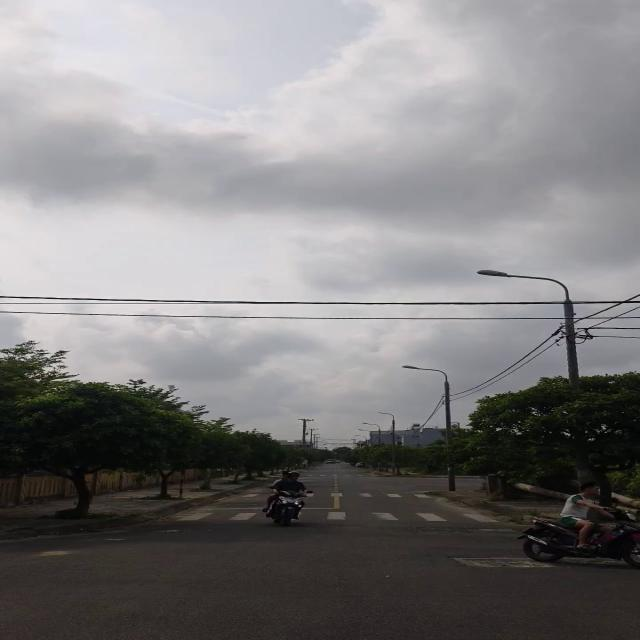no_helmet: (579, 481, 612, 504)
